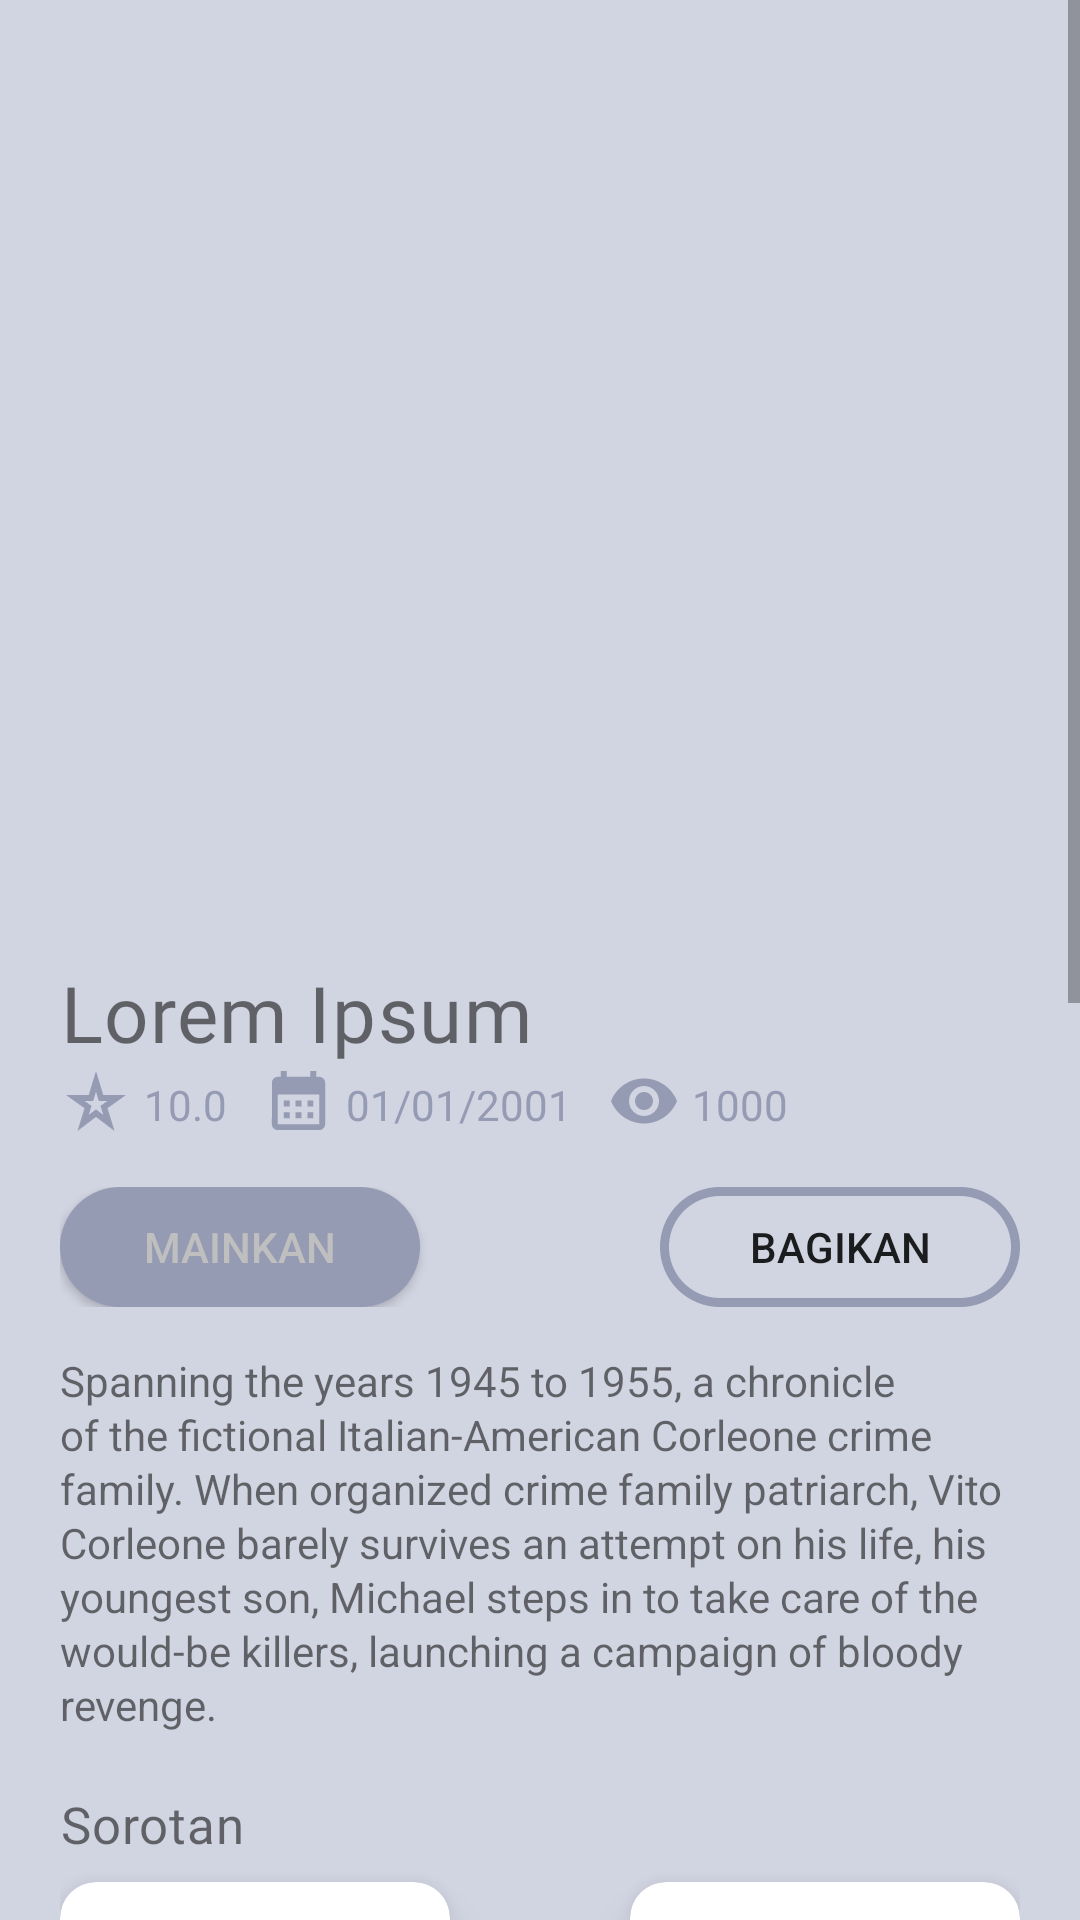

Named icons in this screenshot (1080*1920) and their centers, (x,y):
calendar: (298,1100)
stardet: (96,1101)
views: (644,1101)
